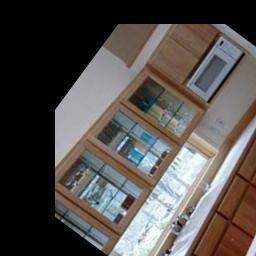Lavaplatos: (153, 168, 237, 256)
